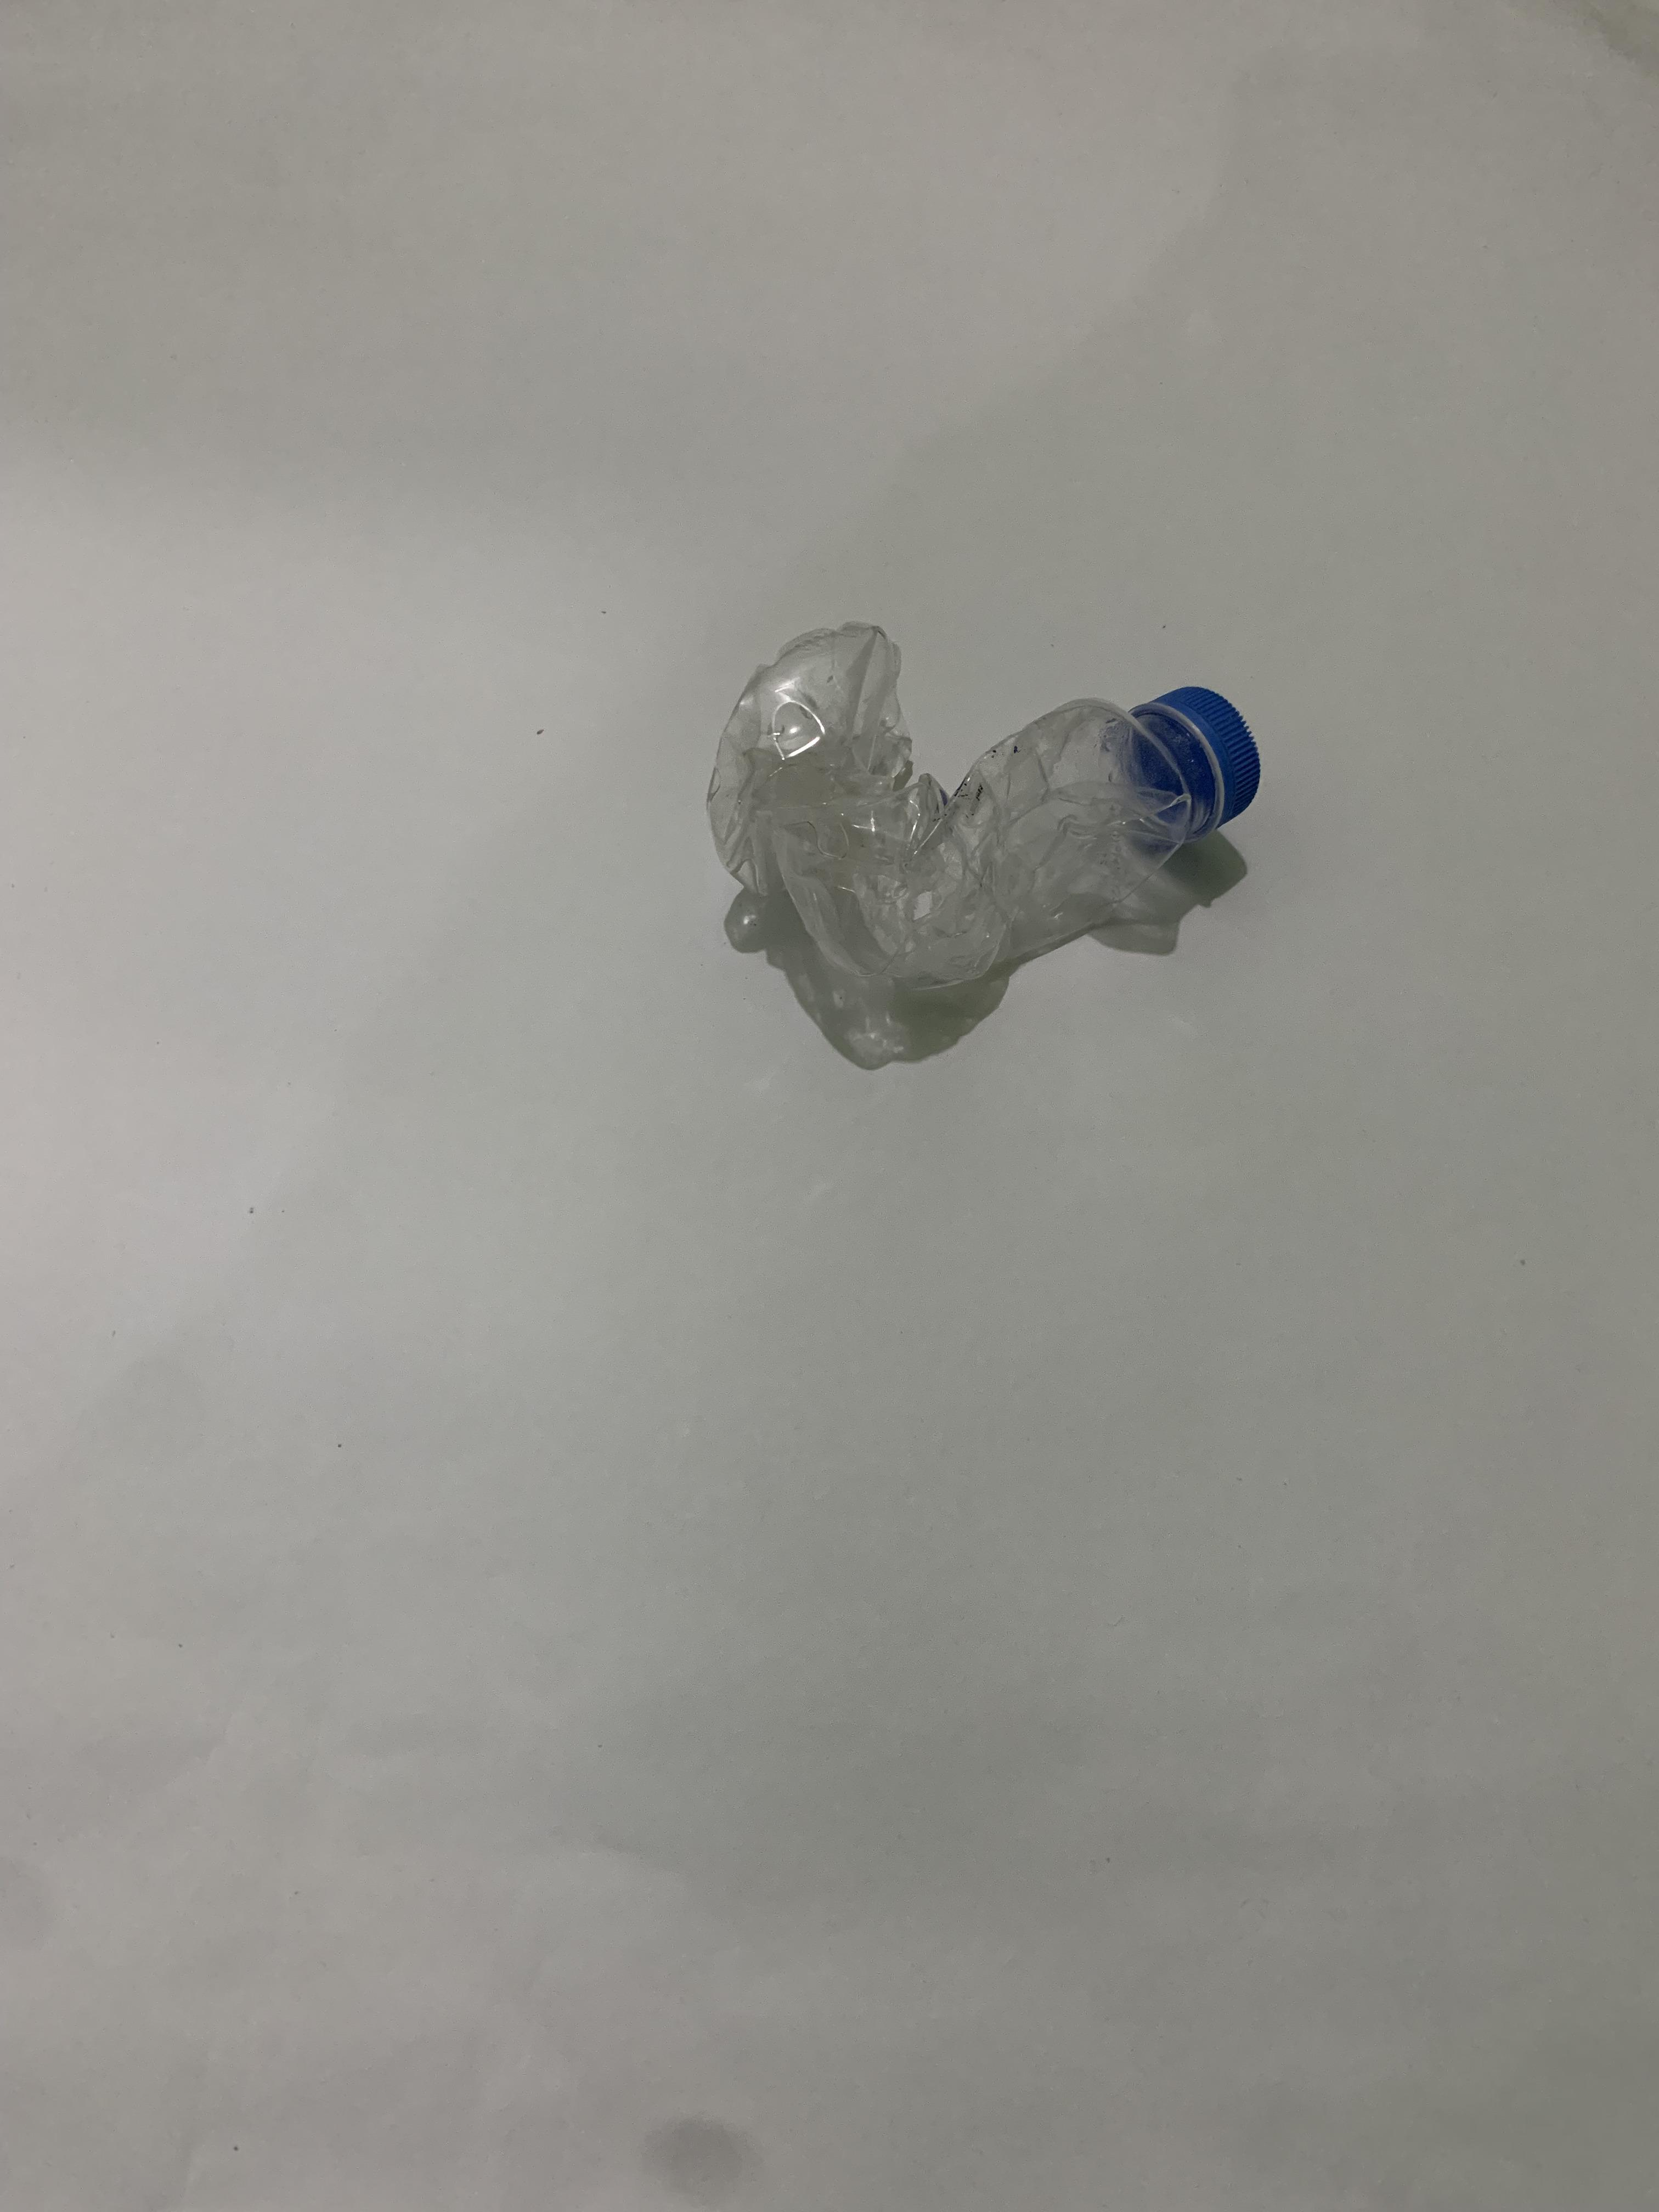bottle: (0, 610, 443, 1082)
